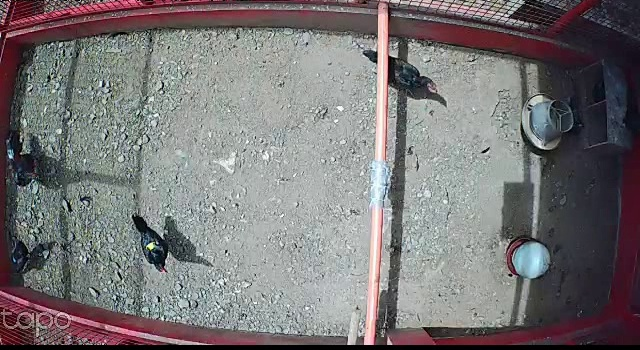Chicken: (360, 46, 441, 99), (130, 211, 169, 274), (8, 238, 34, 282)
Drinker: (505, 238, 553, 281)
Feeder: (520, 93, 575, 153)
Rooster: (1, 131, 44, 189)
Saddle_Color_Blue: (12, 257, 17, 263)
Saddle_Color_Yellow: (146, 241, 158, 252)
